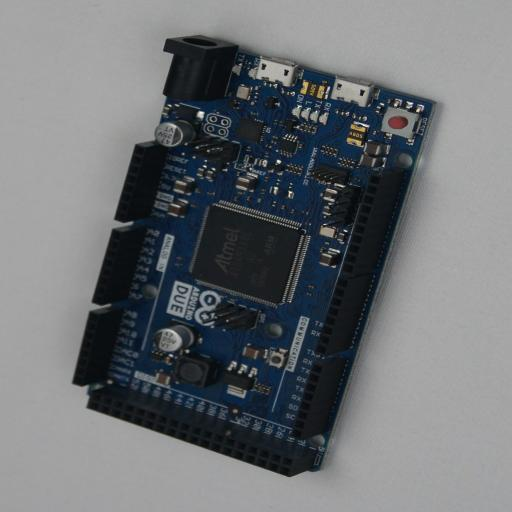Arduino Due: (72, 35, 436, 477)
